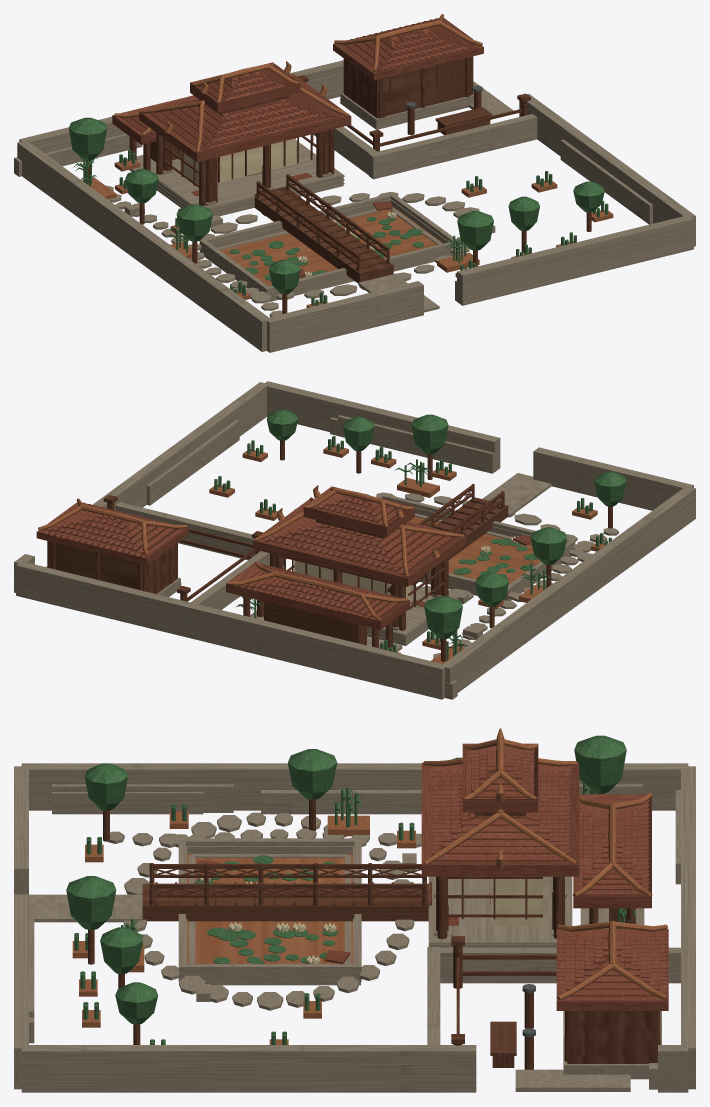
3 views of the same model, one above another, from view 1: azimuth 30°, elevation 25°; view 2: azimuth 150°, elevation 25°; view 3: azimuth 270°, elevation 25° (orthographic). The views are drawn at different scales.
Parts seen in each view (by area): view 1: garrison_part_0001, garrison_part_0004, garrison_part_0005, garrison_part_0002, garrison_part_0000, garrison_part_0006, garrison_part_0003; view 2: garrison_part_0001, garrison_part_0004, garrison_part_0005, garrison_part_0002, garrison_part_0003, garrison_part_0000, garrison_part_0006; view 3: garrison_part_0001, garrison_part_0004, garrison_part_0005, garrison_part_0002, garrison_part_0000, garrison_part_0006, garrison_part_0003.
Part boxes in pixels (x1,y1,x2,y2): garrison_part_0001: (17,56,695,352); garrison_part_0004: (112,14,483,162); garrison_part_0005: (68,117,613,316); garrison_part_0002: (14,98,652,301); garrison_part_0000: (123,81,513,312); garrison_part_0006: (254,75,530,271); garrison_part_0003: (150,78,652,300); garrison_part_0001: (14,381,695,699); garrison_part_0004: (36,485,465,629); garrison_part_0005: (209,409,626,663); garrison_part_0002: (162,417,575,699); garrison_part_0003: (50,415,494,634); garrison_part_0000: (46,473,571,651); garrison_part_0006: (103,484,504,601); garrison_part_0001: (14,763,695,1092); garrison_part_0004: (421,728,668,1010); garrison_part_0005: (66,735,636,1044); garrison_part_0002: (29,790,680,1089); garrison_part_0000: (29,876,644,1091); garrison_part_0006: (149,863,556,1069); garrison_part_0003: (29,784,660,1079).
Size of the model in its own units: 1091 by 296 by 1084.
1 material, 1 textured.
